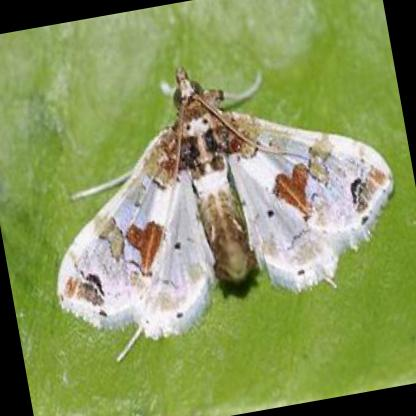leucinodes: (58, 67, 395, 346)
